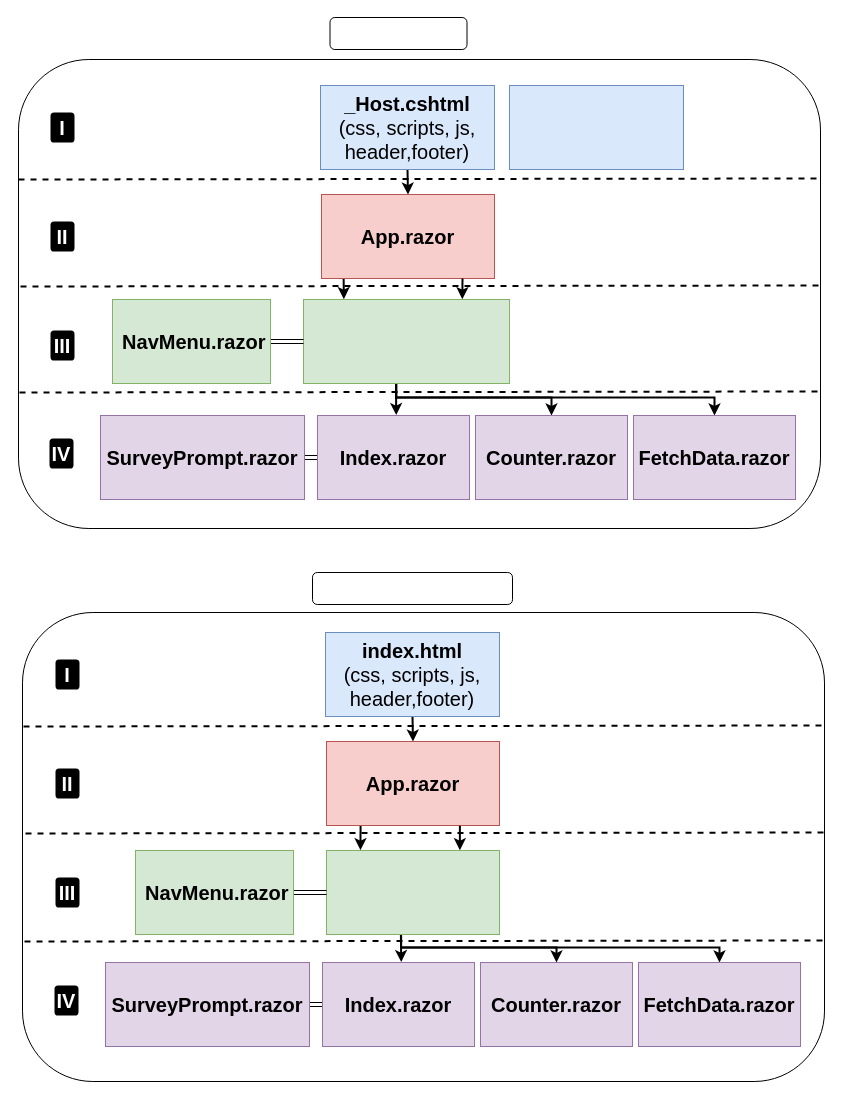
Image size: 844x1099. Some labels were removed from this diagram. Each missing label, with the centre of its shape:
"Error.cshtml (css, scripts, js, header,footer)" goes at point (596, 127).
"MainLayout.razor" goes at point (413, 892).
"MainLayout.razor @inherits LayoutComponentBase @Body" goes at point (406, 341).
"Server App" goes at point (398, 33).
"WebAssemly App" goes at point (412, 588).
